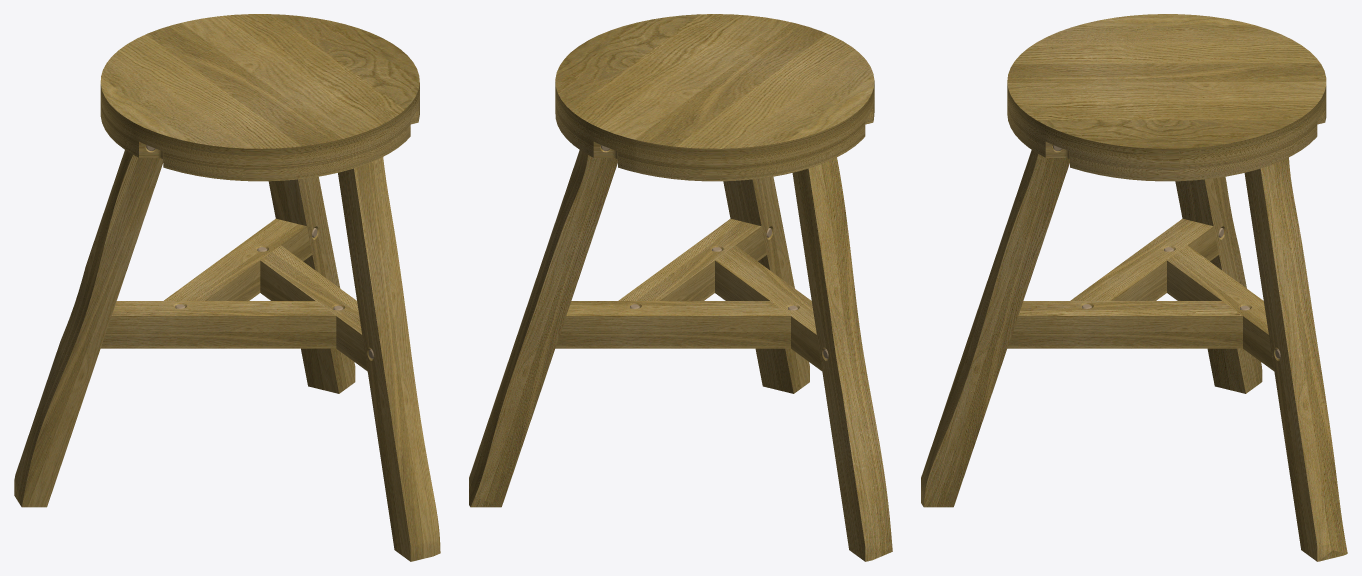
File: Offcut Natural StoolDAE.DAE
3 views of the same model, side by side, from view 1: azimuth 30°, elevation 25°; view 2: azimuth 150°, elevation 25°; view 3: azimuth 270°, elevation 25° (orthographic).
Parts seen in each view (by area): view 1: Object02, Object04, Object05, Object06, Object03, Offcut-Stool, Object07; view 2: Object02, Object05, Object03, Offcut-Stool, Object04, Object07, Object06; view 3: Object02, Object03, Object04, Object07, Object05, Object06, Offcut-Stool.
Boxes of the visible parts, x1,y1,x2,y2 form: Object02: (100,14,419,181); Object04: (338,157,440,561); Object05: (14,150,163,507); Object06: (100,301,336,348); Object03: (268,176,355,393); Offcut-Stool: (164,218,312,300); Object07: (260,245,367,371); Object02: (555,14,874,181); Object05: (792,157,892,561); Object03: (469,150,617,507); Offcut-Stool: (555,301,790,348); Object04: (723,177,809,393); Object07: (618,218,766,300); Object06: (715,245,822,370); Object02: (1007,14,1326,181); Object03: (1244,157,1347,561); Object04: (921,150,1069,507); Object07: (1007,301,1242,348); Object05: (1175,176,1262,393); Object06: (1070,218,1218,300); Offcut-Stool: (1167,245,1274,370).
Size of the model in its own units: 45.21 by 44.11 by 45.33.
Materials: 2 (1 with a texture image).
